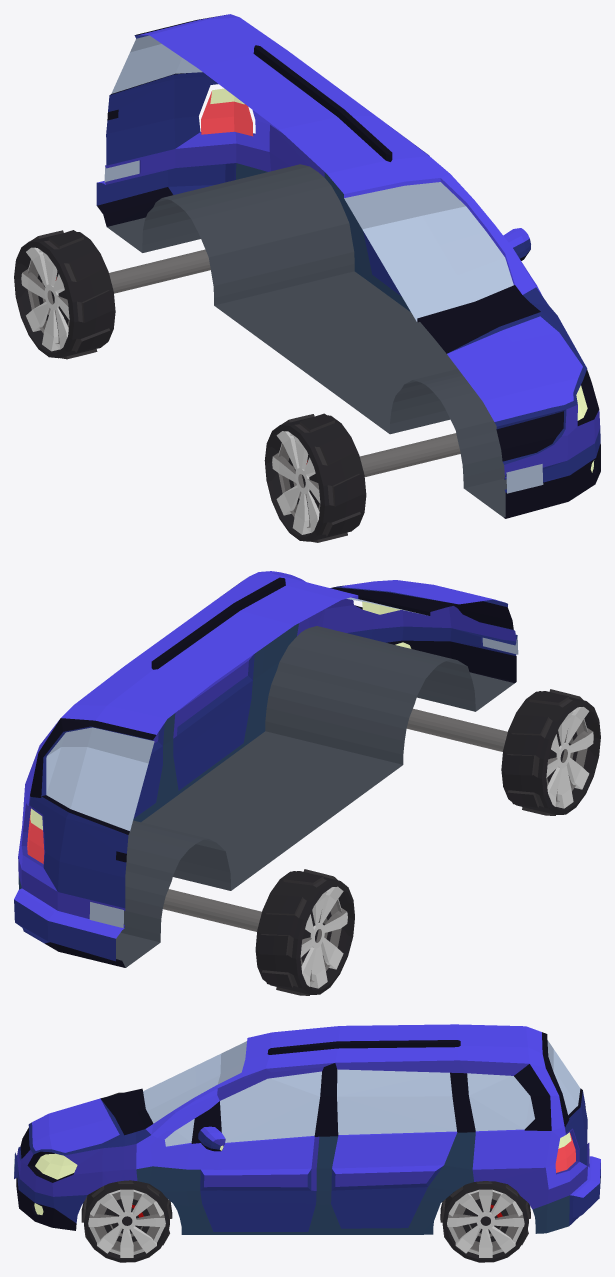
File: Car.glb
3 views of the same model, one above another, from view 1: azimuth 30°, elevation 25°; view 2: azimuth 150°, elevation 25°; view 3: azimuth 270°, elevation 25° (orthographic). The views are drawn at different scales.
Parts seen in each view (by area): view 1: CAR_BODY, BACK_WHEELS, FRONT_WHEELS; view 2: CAR_BODY, FRONT_WHEELS, BACK_WHEELS; view 3: CAR_BODY, FRONT_WHEELS, BACK_WHEELS, MIRRORS.
Part boxes in pixels (<box>): CAR_BODY: <box>96,14,600,518</box>; BACK_WHEELS: <box>14,230,210,359</box>; FRONT_WHEELS: <box>264,413,460,542</box>; CAR_BODY: <box>14,571,518,967</box>; FRONT_WHEELS: <box>406,689,600,815</box>; BACK_WHEELS: <box>163,869,354,995</box>; CAR_BODY: <box>14,1024,600,1234</box>; FRONT_WHEELS: <box>81,1092,172,1262</box>; BACK_WHEELS: <box>440,1181,530,1262</box>; MIRRORS: <box>198,1126,225,1151</box>.
Size of the model in its own units: 2.03 by 1.79 by 4.79.
